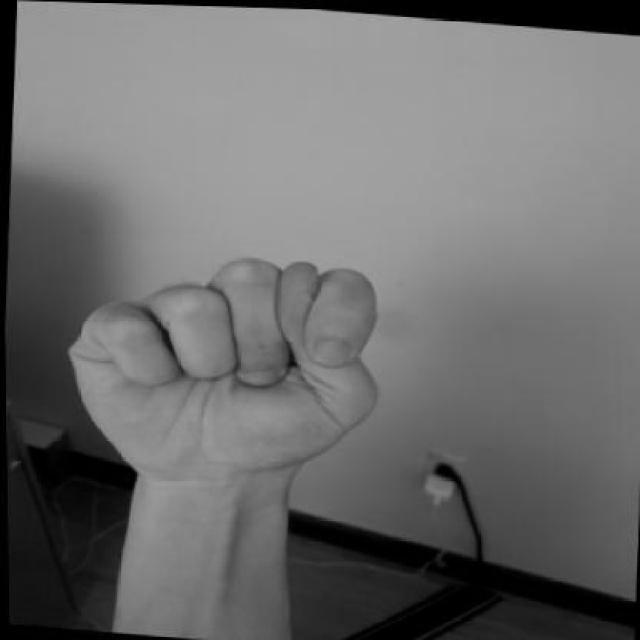T: (50, 229, 396, 503)
